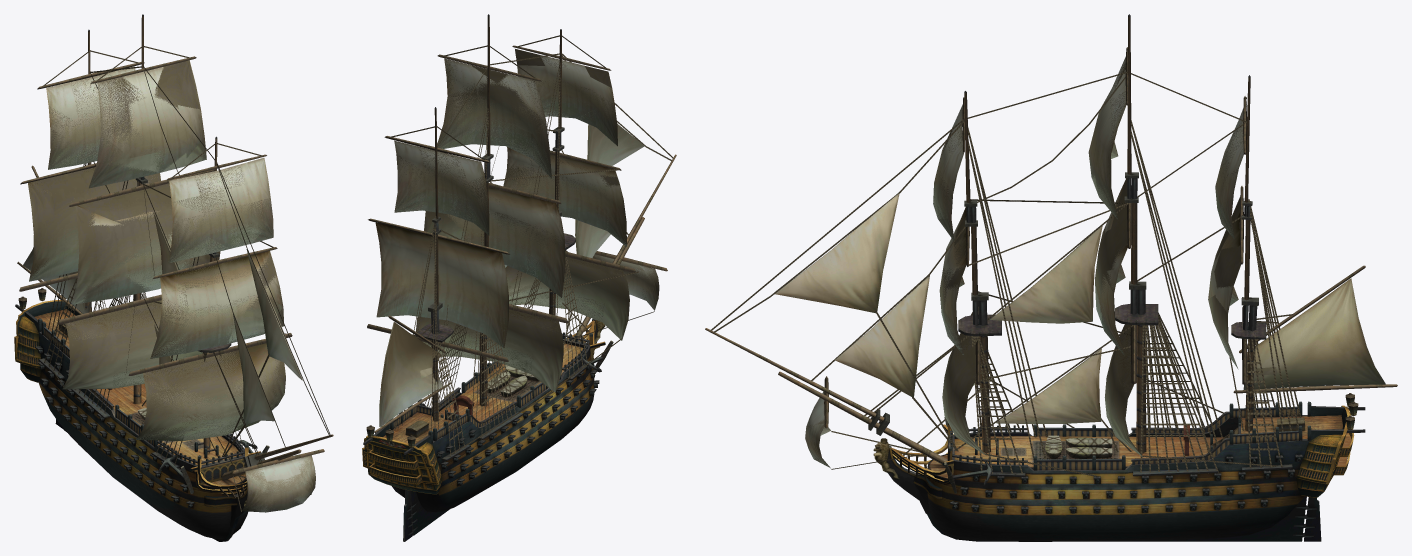
File: R_Ship_04.fbx
3 views of the same model, side by side, from view 1: azimuth 30°, elevation 25°; view 2: azimuth 150°, elevation 25°; view 3: azimuth 270°, elevation 25° (orthographic). The views are drawn at different scales.
Parts seen in each view (by area): view 1: R_Ship_04_sail, R_Ship_04; view 2: R_Ship_04_sail, R_Ship_04; view 3: R_Ship_04, R_Ship_04_sail.
Part boxes in pixels (bbox=[...]): R_Ship_04_sail: bbox=[23, 60, 315, 512]; R_Ship_04: bbox=[14, 14, 333, 541]; R_Ship_04_sail: bbox=[375, 49, 659, 426]; R_Ship_04: bbox=[362, 14, 676, 541]; R_Ship_04: bbox=[705, 14, 1397, 541]; R_Ship_04_sail: bbox=[775, 56, 1385, 468].
Size of the model in its own units: 3.71 by 10 by 11.91.
2 materials, 2 textured.
